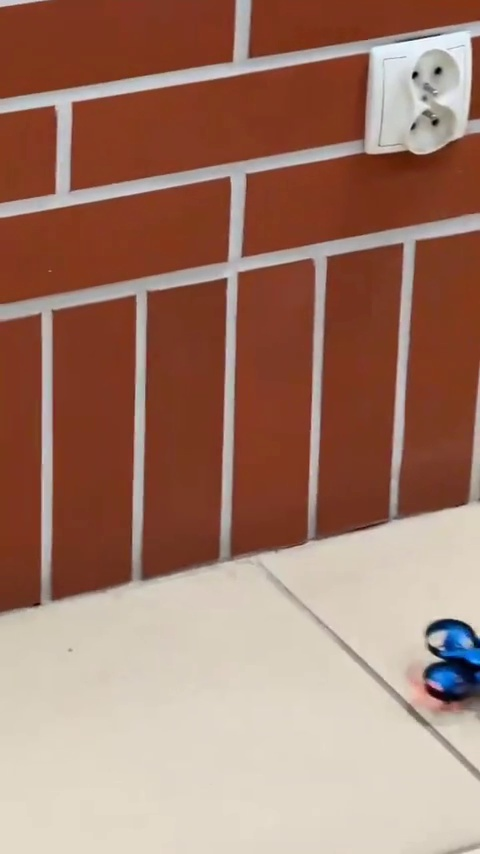drone: (414, 622, 480, 706)
